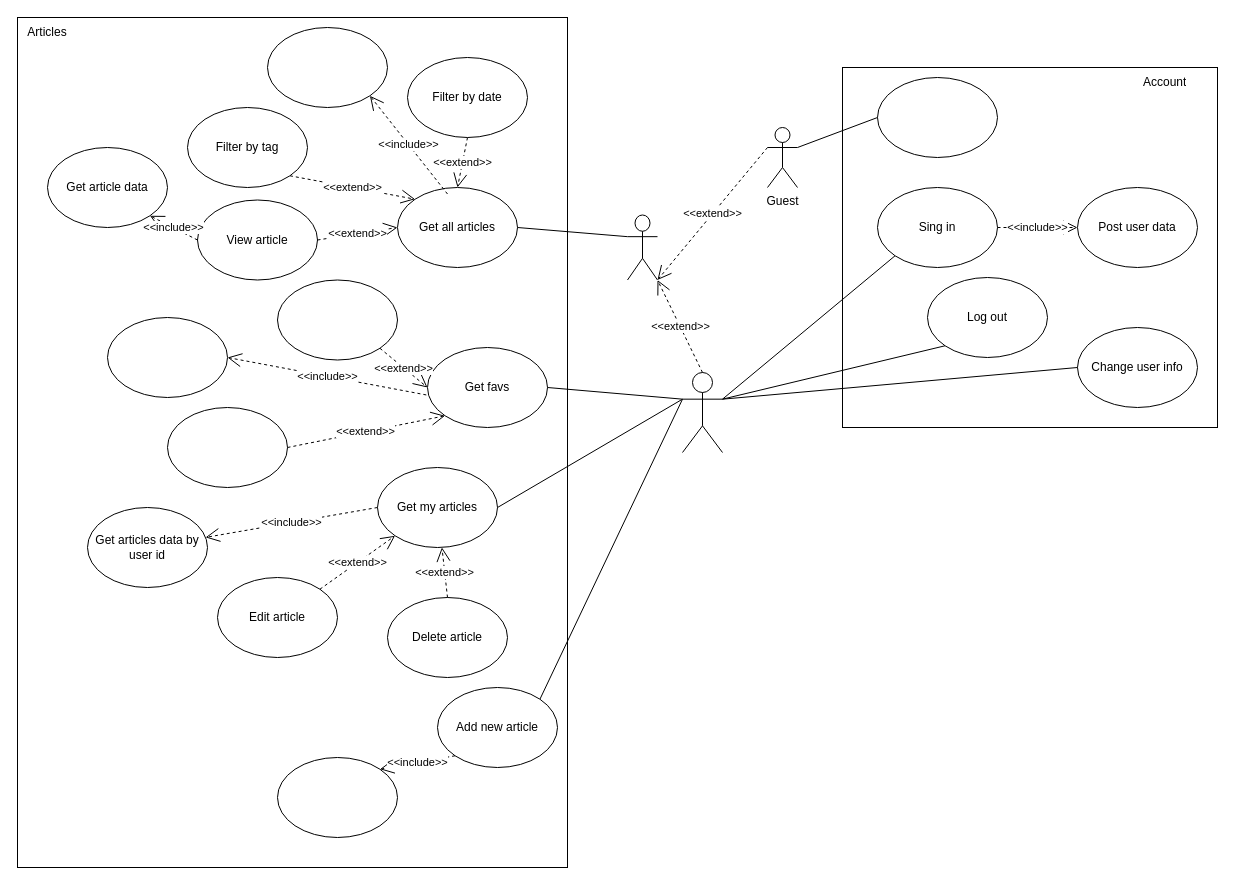
This 1235x885 diagram has some shape labels left out. Each missing label, with the box of its shape:
Add article to favs: (166, 406, 288, 488)
Any user: (626, 214, 658, 280)
Authorized user: (682, 372, 722, 452)
Get articles data: (266, 26, 388, 108)
Post article data: (276, 756, 398, 838)
Post favs data: (106, 316, 228, 398)
Remove article from favs: (276, 279, 398, 360)
Sing up: (876, 76, 998, 158)
